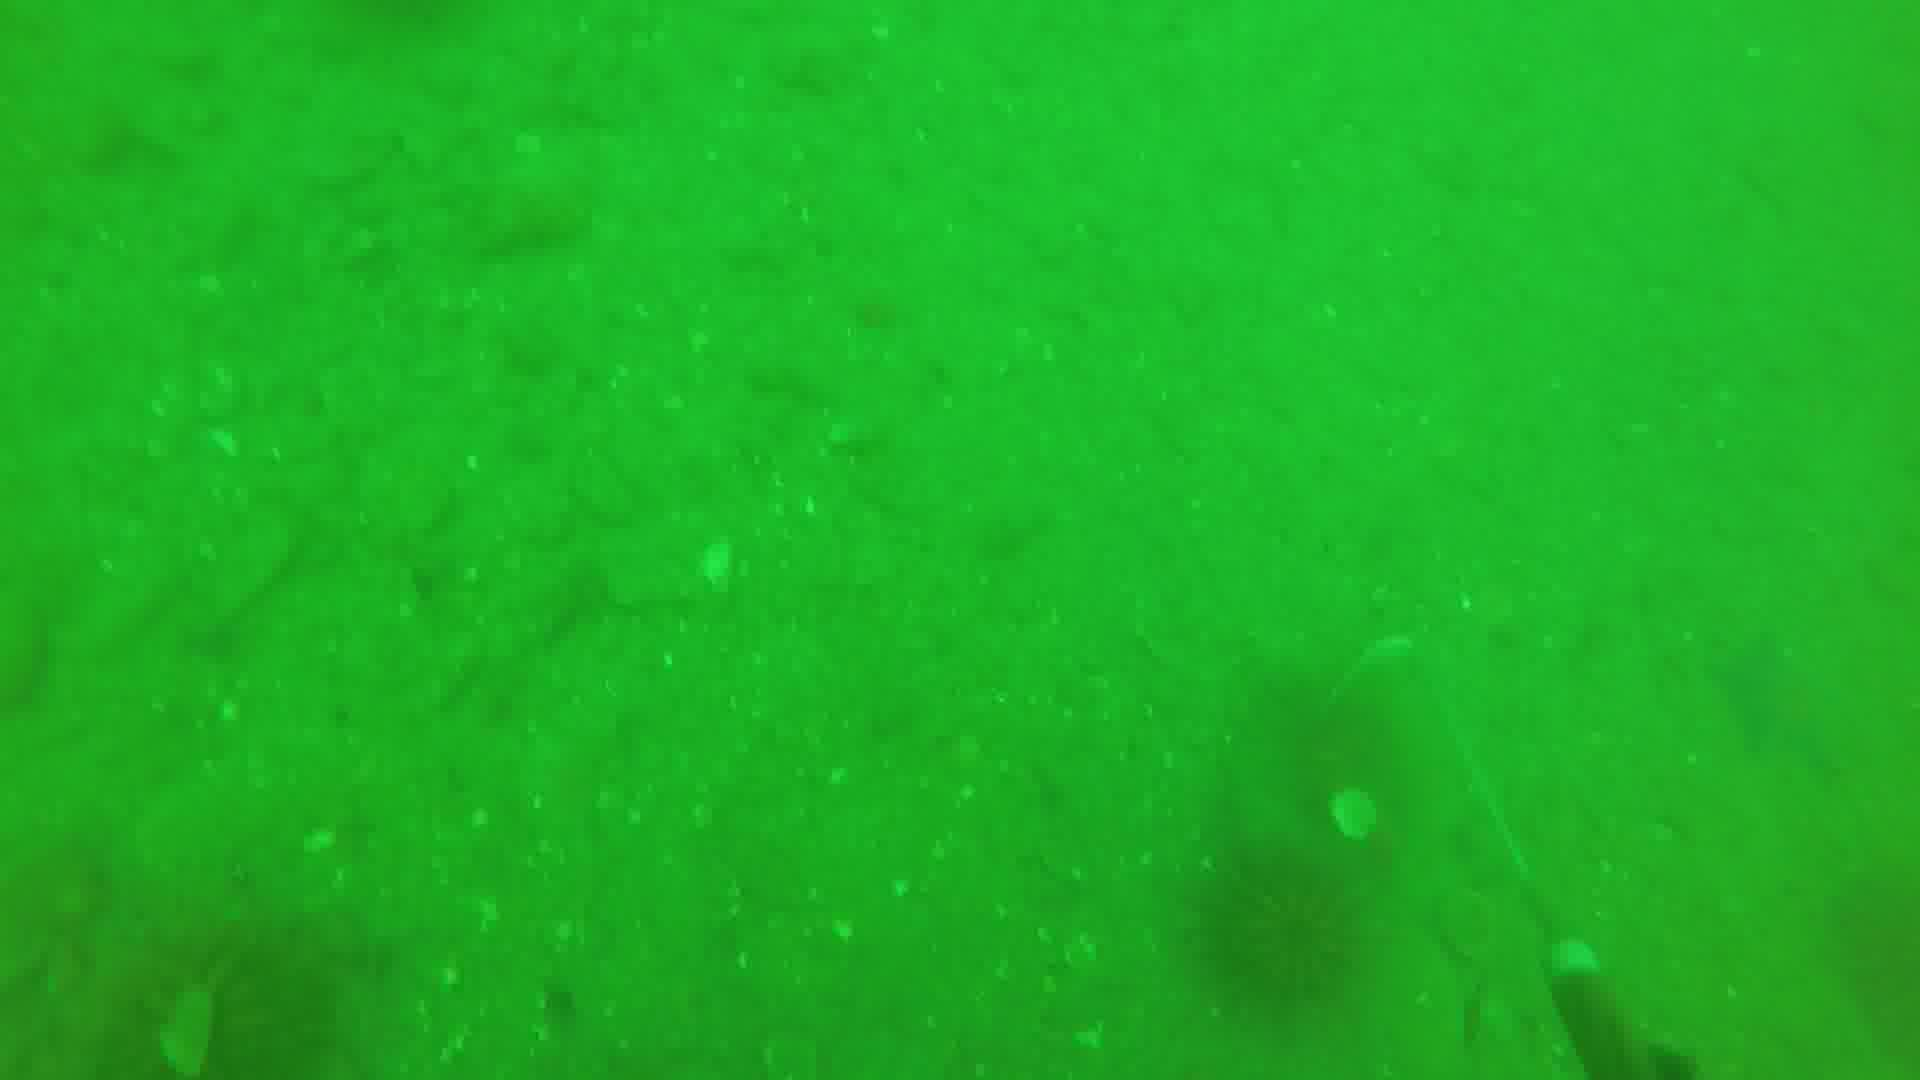echinus: (86, 940, 305, 1080), (1211, 870, 1389, 1021)
scallop: (1329, 798, 1385, 836)
starfish: (1710, 638, 1851, 781)
